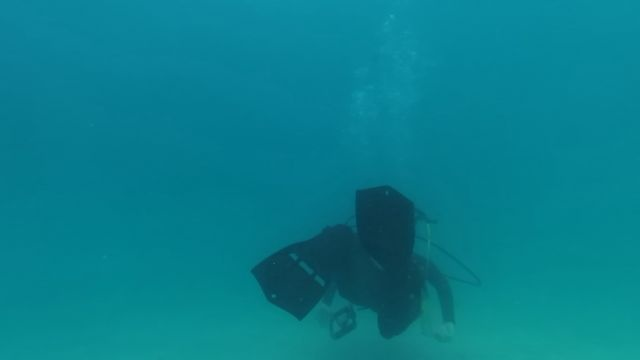Diver: (251, 178, 488, 353)
Hand: (426, 305, 470, 346)
